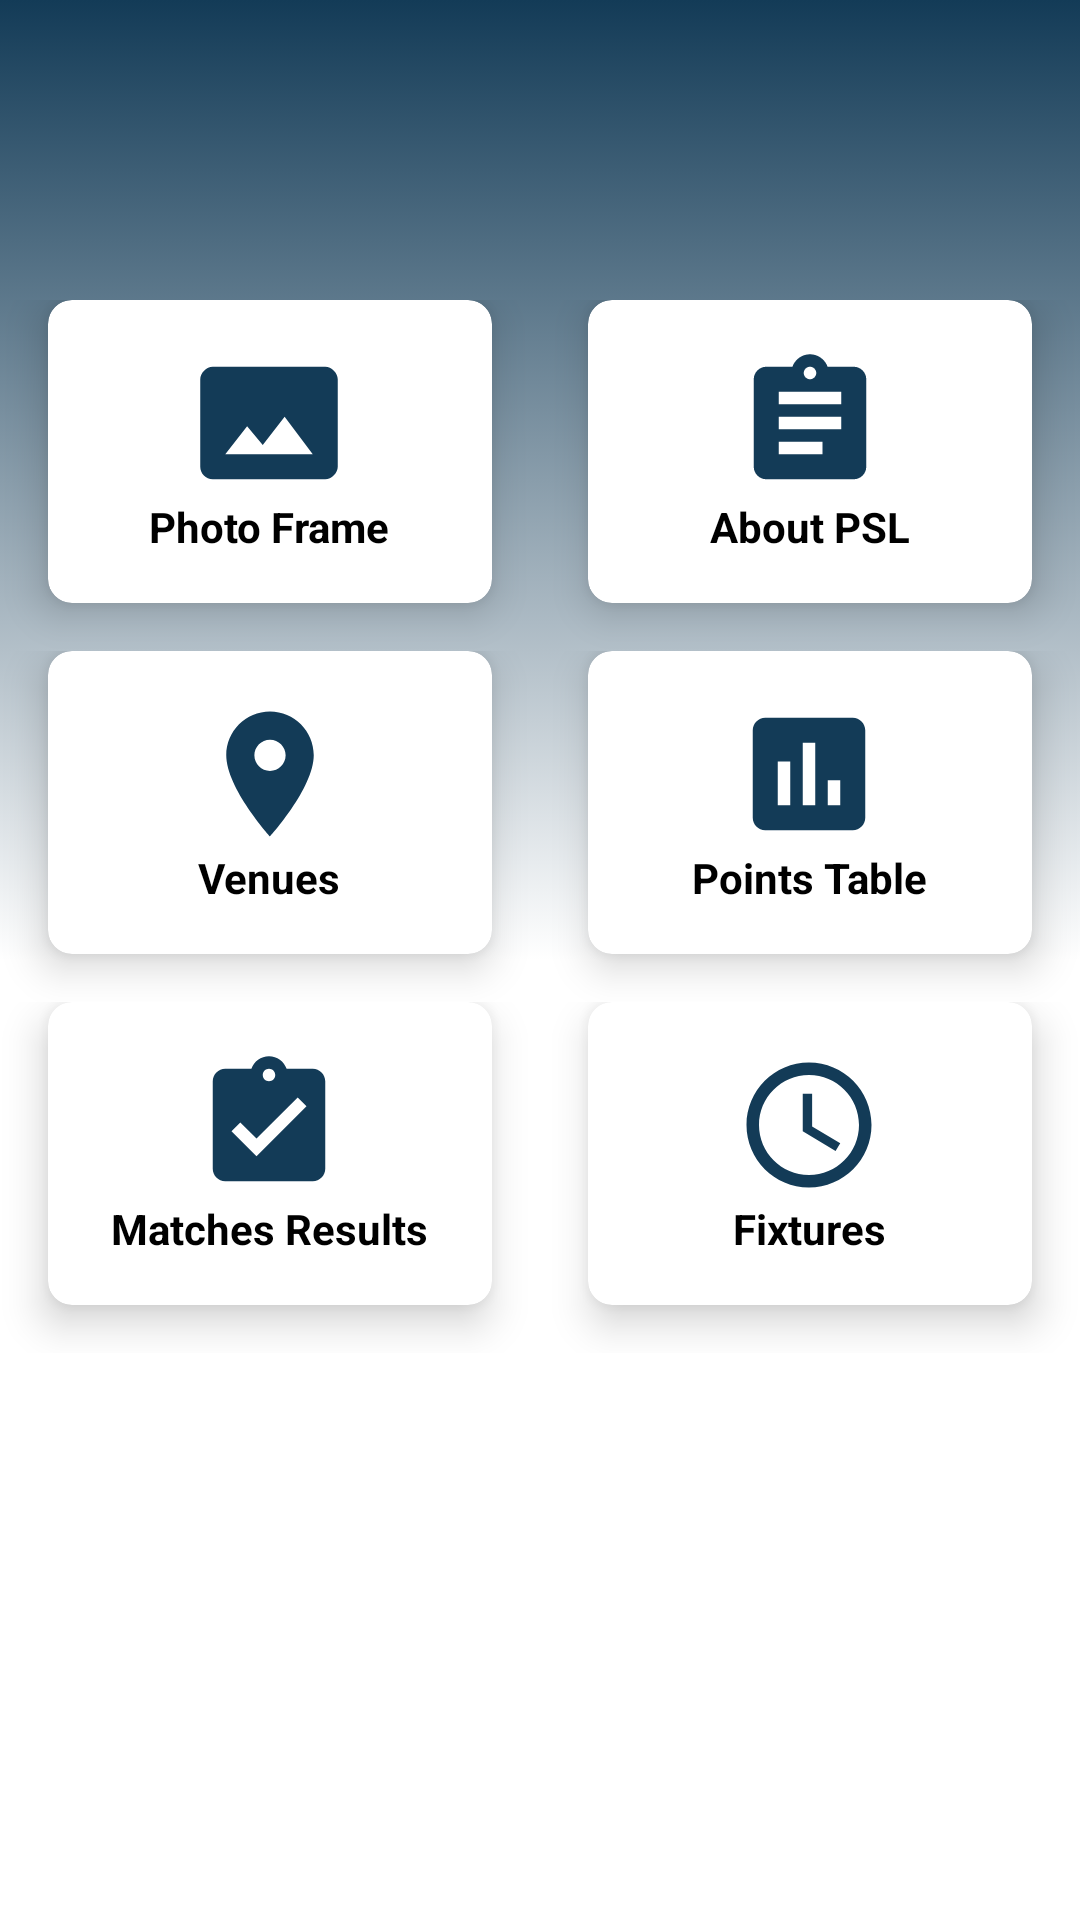

Icons on this 1080 x 1920 Android screen, each with the point to tap as point (x, y):
access time: point (809, 1125)
assessment: point (809, 774)
assignment turned in: point (269, 1119)
location on: point (270, 774)
photo size select actual: point (269, 423)
